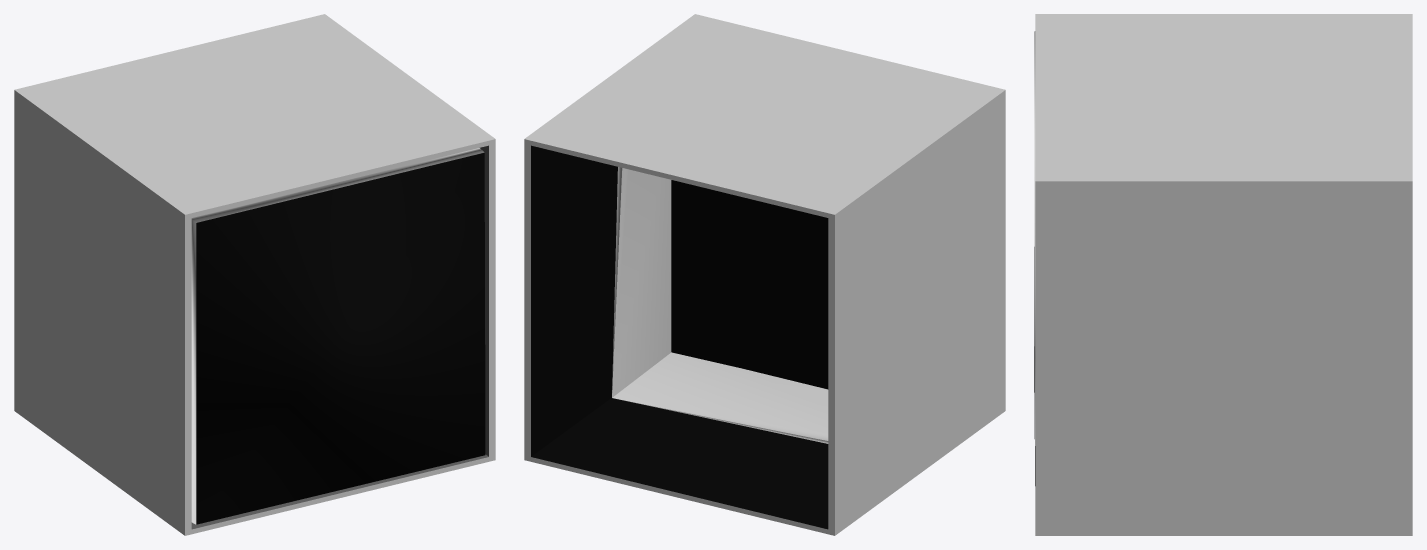
The model's file is frameAmerican_white.glb.
3 renders of one model, left to right at view 1: azimuth 30°, elevation 25°; view 2: azimuth 150°, elevation 25°; view 3: azimuth 270°, elevation 25°, orthographic. The views are drawn at different scales.
Visible parts, largest first — view 1: Material2, A_PaintingMesh, Material3.001; view 2: Material2, Material3.004, Mat, A_PaintingMesh; view 3: Material2, A_PaintingMesh.
Part boxes in pixels (x1,y1,x2,y2): Material2: (14, 14, 495, 535); A_PaintingMesh: (191, 148, 485, 524); Material3.001: (191, 145, 488, 529); Material2: (524, 14, 1005, 535); Material3.004: (531, 145, 828, 529); Mat: (671, 180, 828, 389); A_PaintingMesh: (612, 167, 828, 443); Material2: (1035, 14, 1412, 535); A_PaintingMesh: (1034, 31, 1035, 485).
Size of what is drawn, in the model's own units: 1.07 by 1.05 by 1.02.
Materials: 6 (1 with a texture image).
